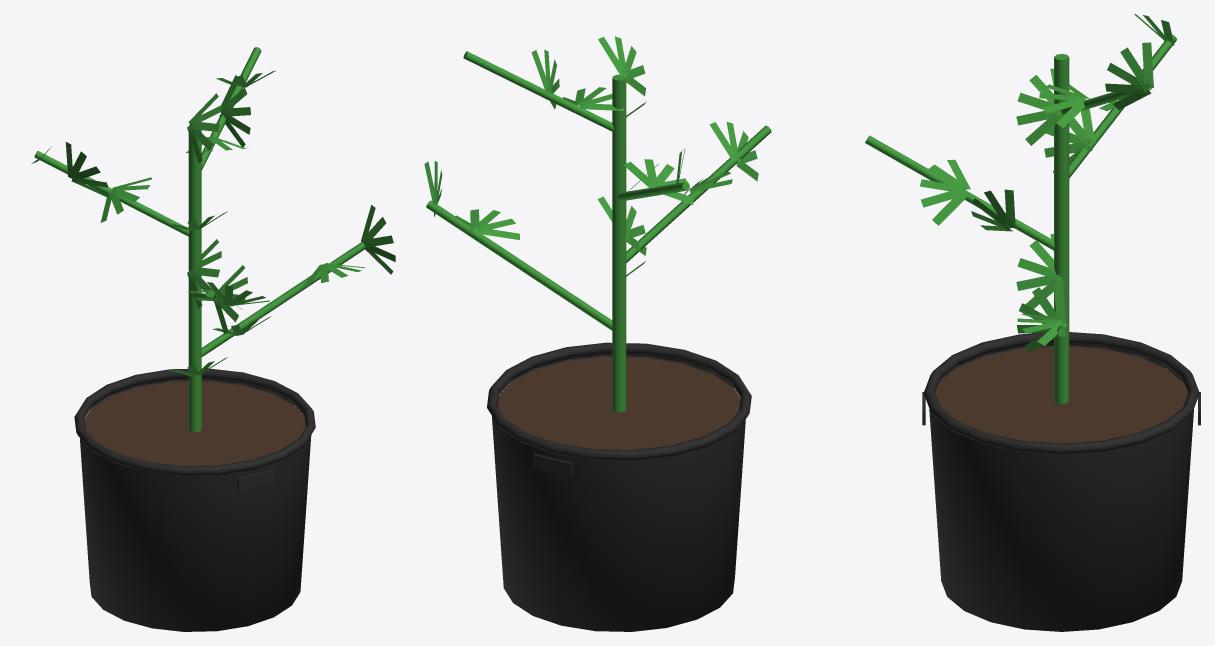
The model's file is plant-mother-7gal.glb.
The picture shows the model from 3 angles, left to right: view 1: azimuth 30°, elevation 25°; view 2: azimuth 150°, elevation 25°; view 3: azimuth 270°, elevation 25°; orthographic projection. The views are drawn at different scales.
Parts seen in each view (by area): view 1: pot_body, soil_surface, plant_leaves, plant_stem, pot_rim; view 2: pot_body, soil_surface, plant_stem, plant_leaves, pot_rim, pot_handles; view 3: pot_body, soil_surface, plant_leaves, plant_stem, pot_rim.
Part boxes in pixels (left/top/right/bottom): pot_body: left=80, top=378, right=311, bottom=631; soil_surface: left=84, top=381, right=305, bottom=466; plant_leaves: left=31, top=70, right=395, bottom=375; plant_stem: left=34, top=47, right=365, bottom=431; pot_rim: left=74, top=368, right=315, bottom=476; pot_body: left=492, top=353, right=745, bottom=631; soil_surface: left=498, top=356, right=740, bottom=449; plant_stem: left=426, top=51, right=771, bottom=412; plant_leaves: left=424, top=36, right=758, bottom=277; pot_rim: left=487, top=342, right=751, bottom=460; pot_handles: left=533, top=453, right=572, bottom=476; pot_body: left=929, top=343, right=1193, bottom=631; soil_surface: left=935, top=346, right=1188, bottom=443; plant_leaves: left=920, top=14, right=1174, bottom=352; plant_stem: left=865, top=34, right=1176, bottom=404; pot_rim: left=923, top=332, right=1199, bottom=454.
Bounding box in the file's own units: 0.5579 × 0.8594 × 0.4901.
